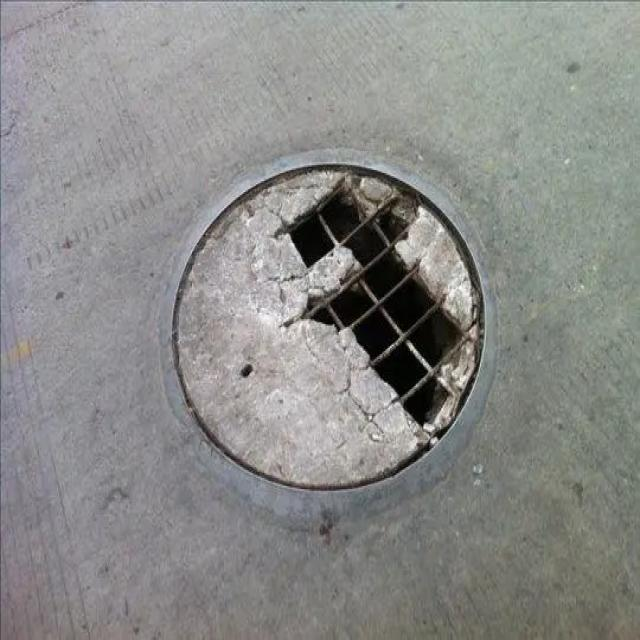manhole: (161, 150, 495, 526)
